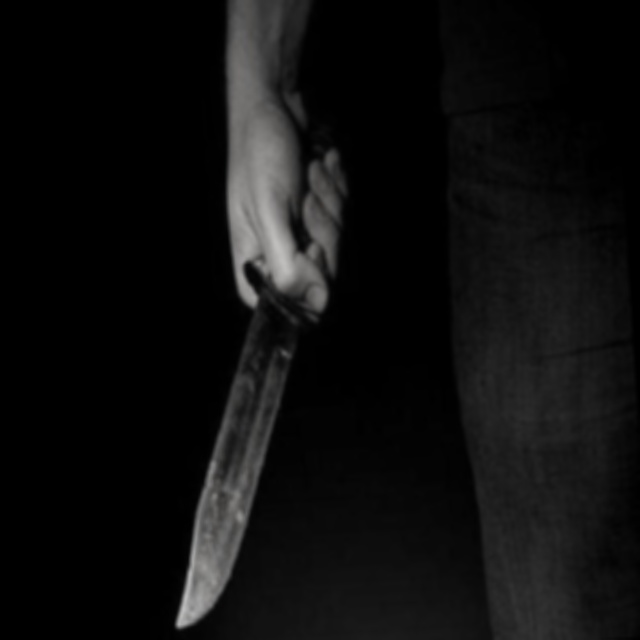Sharp-Object: (144, 120, 368, 627)
